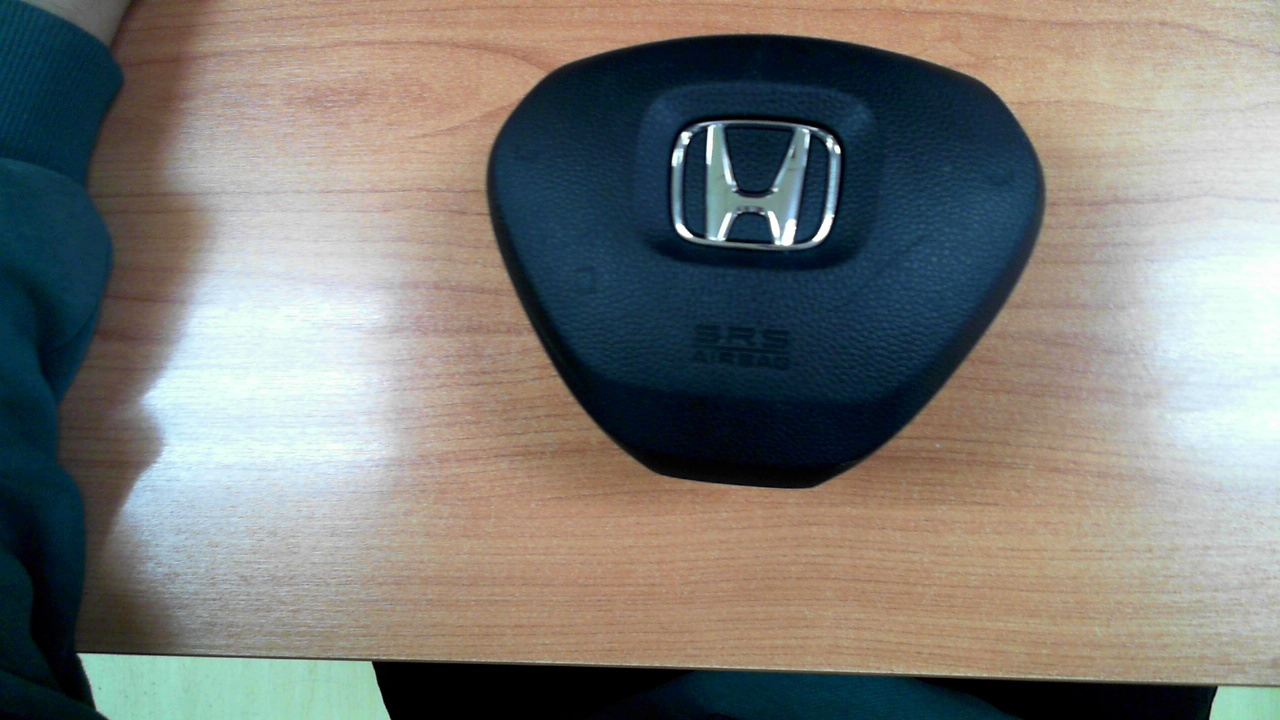Airbag: (485, 33, 1046, 489)
Honda: (671, 119, 842, 251)
